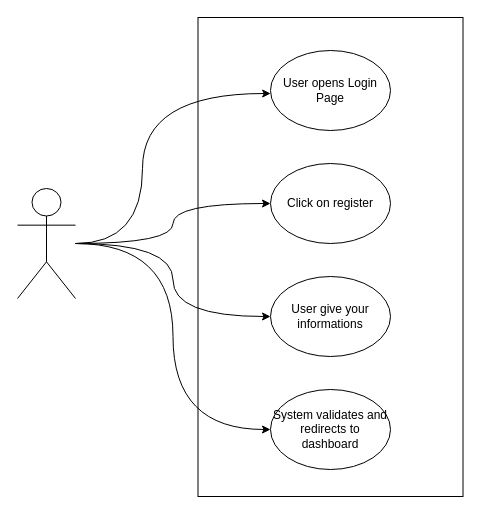
Some shapes in this 481 by 514 pixel diagram are drawn without their labels. Here are the shapes that lost their labels. From the top down, the box of each, then its label:
(16, 188, 76, 298): User
(197, 16, 463, 496): Registration
